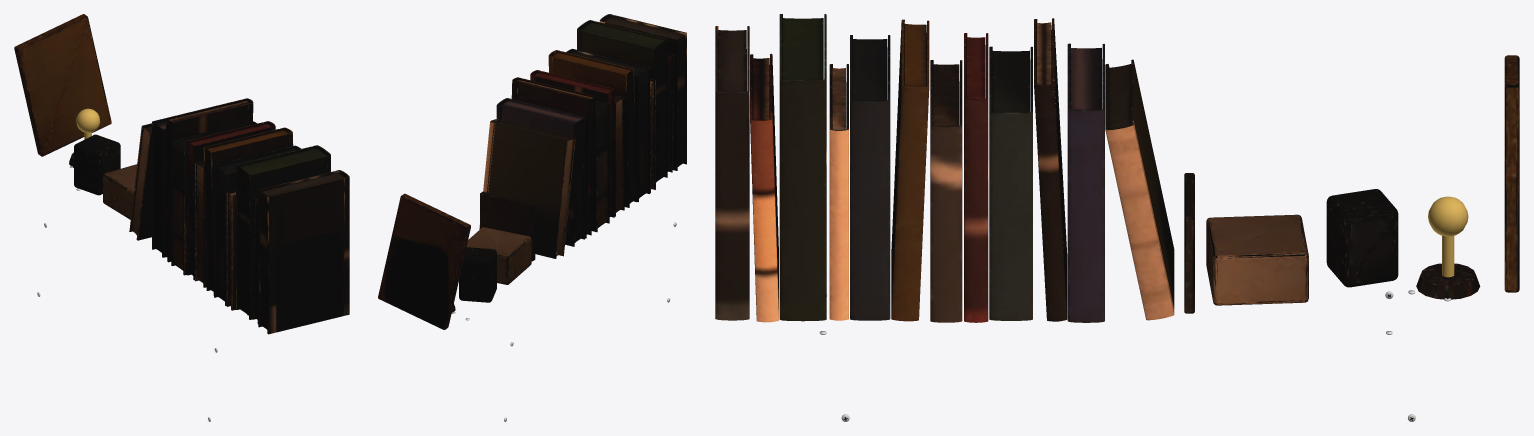
The model's file is bookrack.glb.
3 renders of one model, left to right at view 1: azimuth 30°, elevation 25°; view 2: azimuth 150°, elevation 25°; view 3: azimuth 270°, elevation 25°, orthographic. The views are drawn at different scales.
Parts seen in each view (by area): view 1: Mesh_165.001__mesh, Mesh_178.001__mesh, Mesh_167.001__mesh, Mesh_174.001__mesh, Mesh_170.001__mesh, Mesh_169.001__mesh, Mesh_173.001__mesh, Mesh_161.001__mesh, Mesh_172.001__mesh, Mesh_176.001__mesh, Mesh_175.001__mesh, Mesh_160.001__mesh (+4 smaller); view 2: Mesh_178.001__mesh, Mesh_176.001__mesh, Mesh_167.001__mesh, Mesh_175.001__mesh, Mesh_170.001__mesh, Mesh_174.001__mesh, Mesh_165.001__mesh, Mesh_169.001__mesh, Mesh_160.001__mesh, Mesh_173.001__mesh, Mesh_177.001__mesh, Mesh_161.001__mesh (+4 smaller); view 3: Mesh_167.001__mesh, Mesh_173.001__mesh, Mesh_169.001__mesh, Mesh_175.001__mesh, Mesh_176.001__mesh, Mesh_165.001__mesh, Mesh_170.001__mesh, Mesh_160.001__mesh, Mesh_171.001__mesh, Mesh_172.001__mesh, Mesh_174.001__mesh, Mesh_166.001__mesh (+6 smaller).
Boxes of the visible parts, <box> form: Mesh_165.001__mesh: <box>258,170,349,334</box>; Mesh_178.001__mesh: <box>14,14,111,156</box>; Mesh_167.001__mesh: <box>236,145,330,319</box>; Mesh_174.001__mesh: <box>162,98,253,262</box>; Mesh_170.001__mesh: <box>203,127,293,295</box>; Mesh_169.001__mesh: <box>214,145,301,305</box>; Mesh_173.001__mesh: <box>171,121,257,275</box>; Mesh_161.001__mesh: <box>74,134,120,195</box>; Mesh_172.001__mesh: <box>187,121,275,280</box>; Mesh_176.001__mesh: <box>129,123,151,240</box>; Mesh_175.001__mesh: <box>152,118,166,256</box>; Mesh_160.001__mesh: <box>103,164,137,219</box>; Mesh_178.001__mesh: <box>378,193,470,329</box>; Mesh_176.001__mesh: <box>479,119,575,258</box>; Mesh_167.001__mesh: <box>577,20,667,182</box>; Mesh_175.001__mesh: <box>496,98,584,246</box>; Mesh_170.001__mesh: <box>548,50,636,207</box>; Mesh_174.001__mesh: <box>511,77,595,238</box>; Mesh_165.001__mesh: <box>599,14,686,170</box>; Mesh_169.001__mesh: <box>566,48,649,202</box>; Mesh_160.001__mesh: <box>466,227,531,284</box>; Mesh_173.001__mesh: <box>592,100,609,232</box>; Mesh_177.001__mesh: <box>480,191,535,261</box>; Mesh_161.001__mesh: <box>459,247,496,302</box>; Mesh_167.001__mesh: <box>779,14,826,321</box>; Mesh_173.001__mesh: <box>989,46,1032,320</box>; Mesh_169.001__mesh: <box>850,35,890,320</box>; Mesh_175.001__mesh: <box>1067,43,1104,322</box>; Mesh_176.001__mesh: <box>1105,59,1174,320</box>; Mesh_165.001__mesh: <box>715,26,749,320</box>; Mesh_170.001__mesh: <box>891,19,929,321</box>; Mesh_160.001__mesh: <box>1206,214,1308,305</box>; Mesh_171.001__mesh: <box>930,60,962,322</box>; Mesh_172.001__mesh: <box>964,33,988,322</box>; Mesh_174.001__mesh: <box>1034,18,1067,321</box>; Mesh_166.001__mesh: <box>750,53,778,322</box>.
Size of the model in its own units: 0.1895 by 0.4385 by 0.7528.
Materials: 2 (2 with a texture image).
